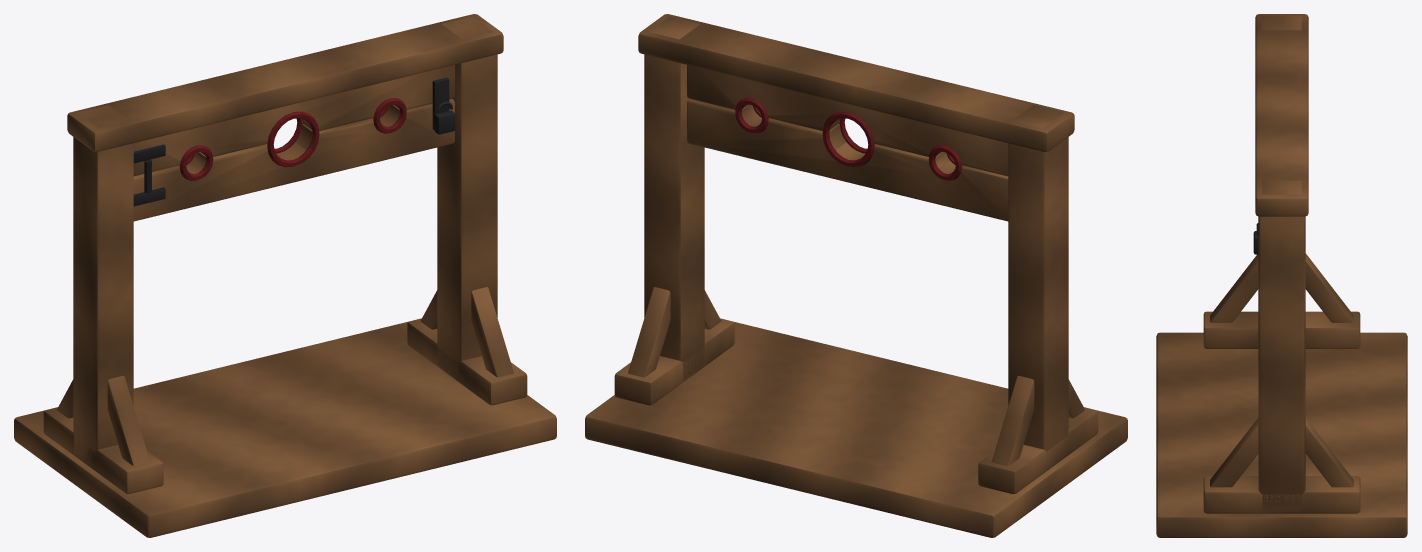
File: Furn_Adult_Stocks.fbx
3 renders of one model, left to right at view 1: azimuth 30°, elevation 25°; view 2: azimuth 150°, elevation 25°; view 3: azimuth 270°, elevation 25°, orthographic. The views are drawn at different scales.
Visible parts, largest first — view 1: Adult_Stocks; view 2: Adult_Stocks; view 3: Adult_Stocks.
Boxes of the visible parts, x1,y1,x2,y2 form: Adult_Stocks: (14, 14, 556, 537); Adult_Stocks: (585, 14, 1127, 537); Adult_Stocks: (1156, 14, 1407, 537).
Size of the model in its own units: 1.4 by 1.2 by 0.8.
Materials: 3 (3 with a texture image).
